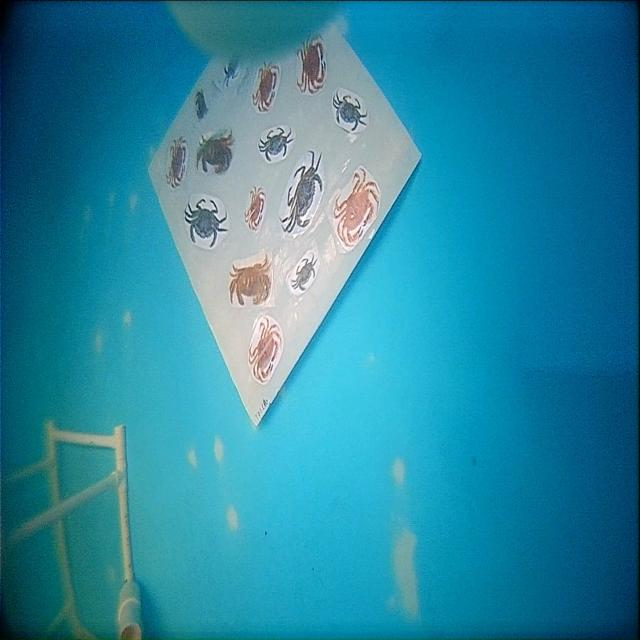GreenCrab: (281, 152, 322, 232), (185, 199, 228, 248), (333, 91, 367, 131), (258, 127, 292, 162)
